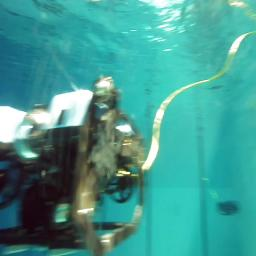Full: (216, 199, 239, 216)
front: (0, 75, 145, 254)
